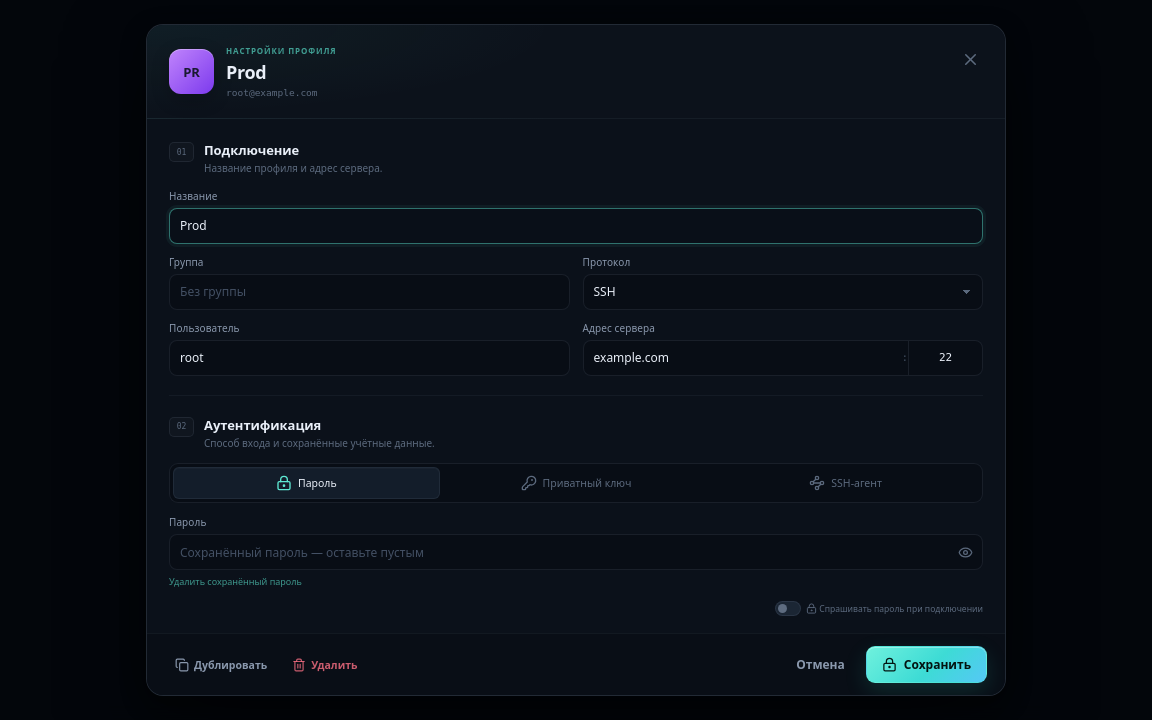
ConnectionModal › редактирует профиль, удаляет секреты и вызывает действия
The image size is (1152, 720).
Later steps or results of the test are not shown.
Check: the text "Настройки профиля" is shown, box [226,45,336,56]
Check: the password field with placeholder "Сохранённый пароль — оставьте пустым" is shown, box [170,535,951,569]
Step 1. Click the button "Удалить сохранённый пароль" → click(235, 582), box [169,575,302,588]
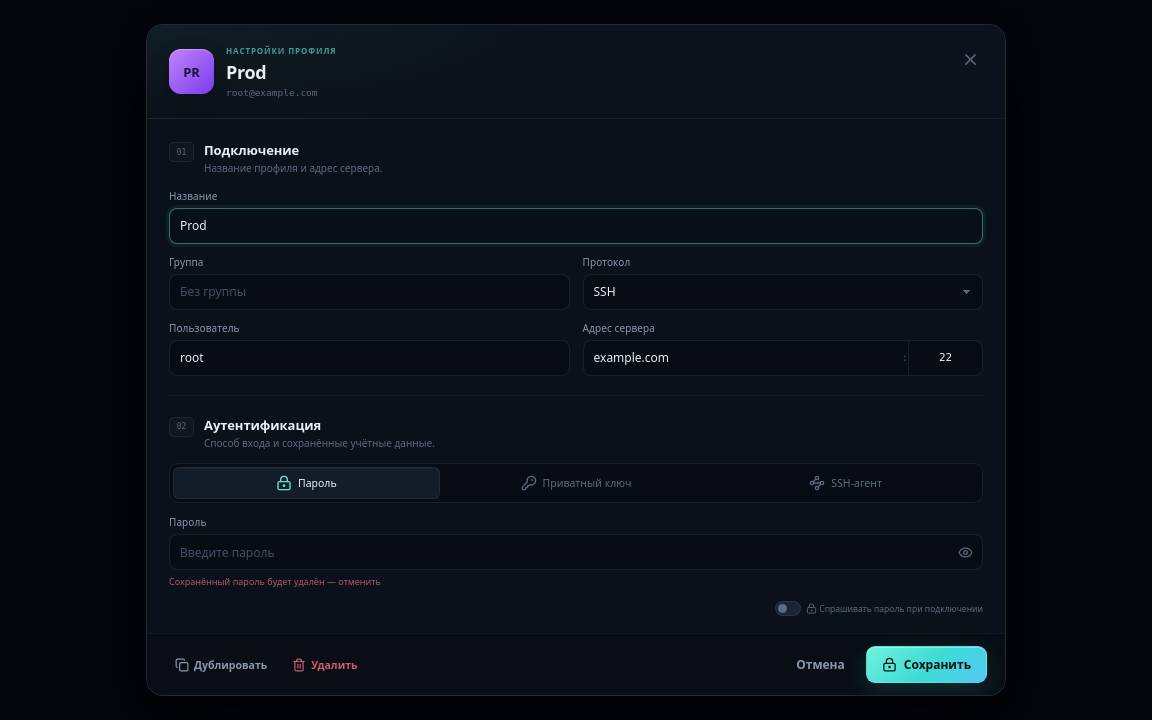
Check: the button "Сохранённый пароль будет удалён — отменить" is shown
Step 2. Click the button "Сохранённый пароль будет удалён — отменить" → click(275, 582), box [169,575,381,588]
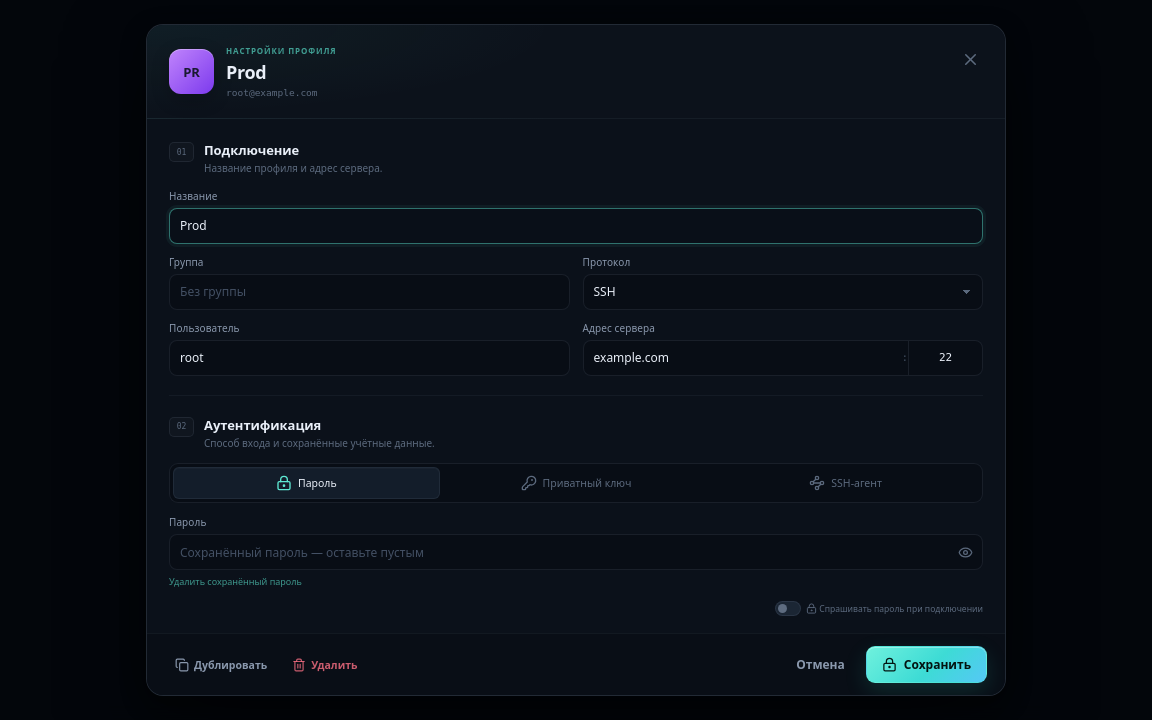
Check: the button "Удалить сохранённый пароль" is shown, box [169,575,302,588]
